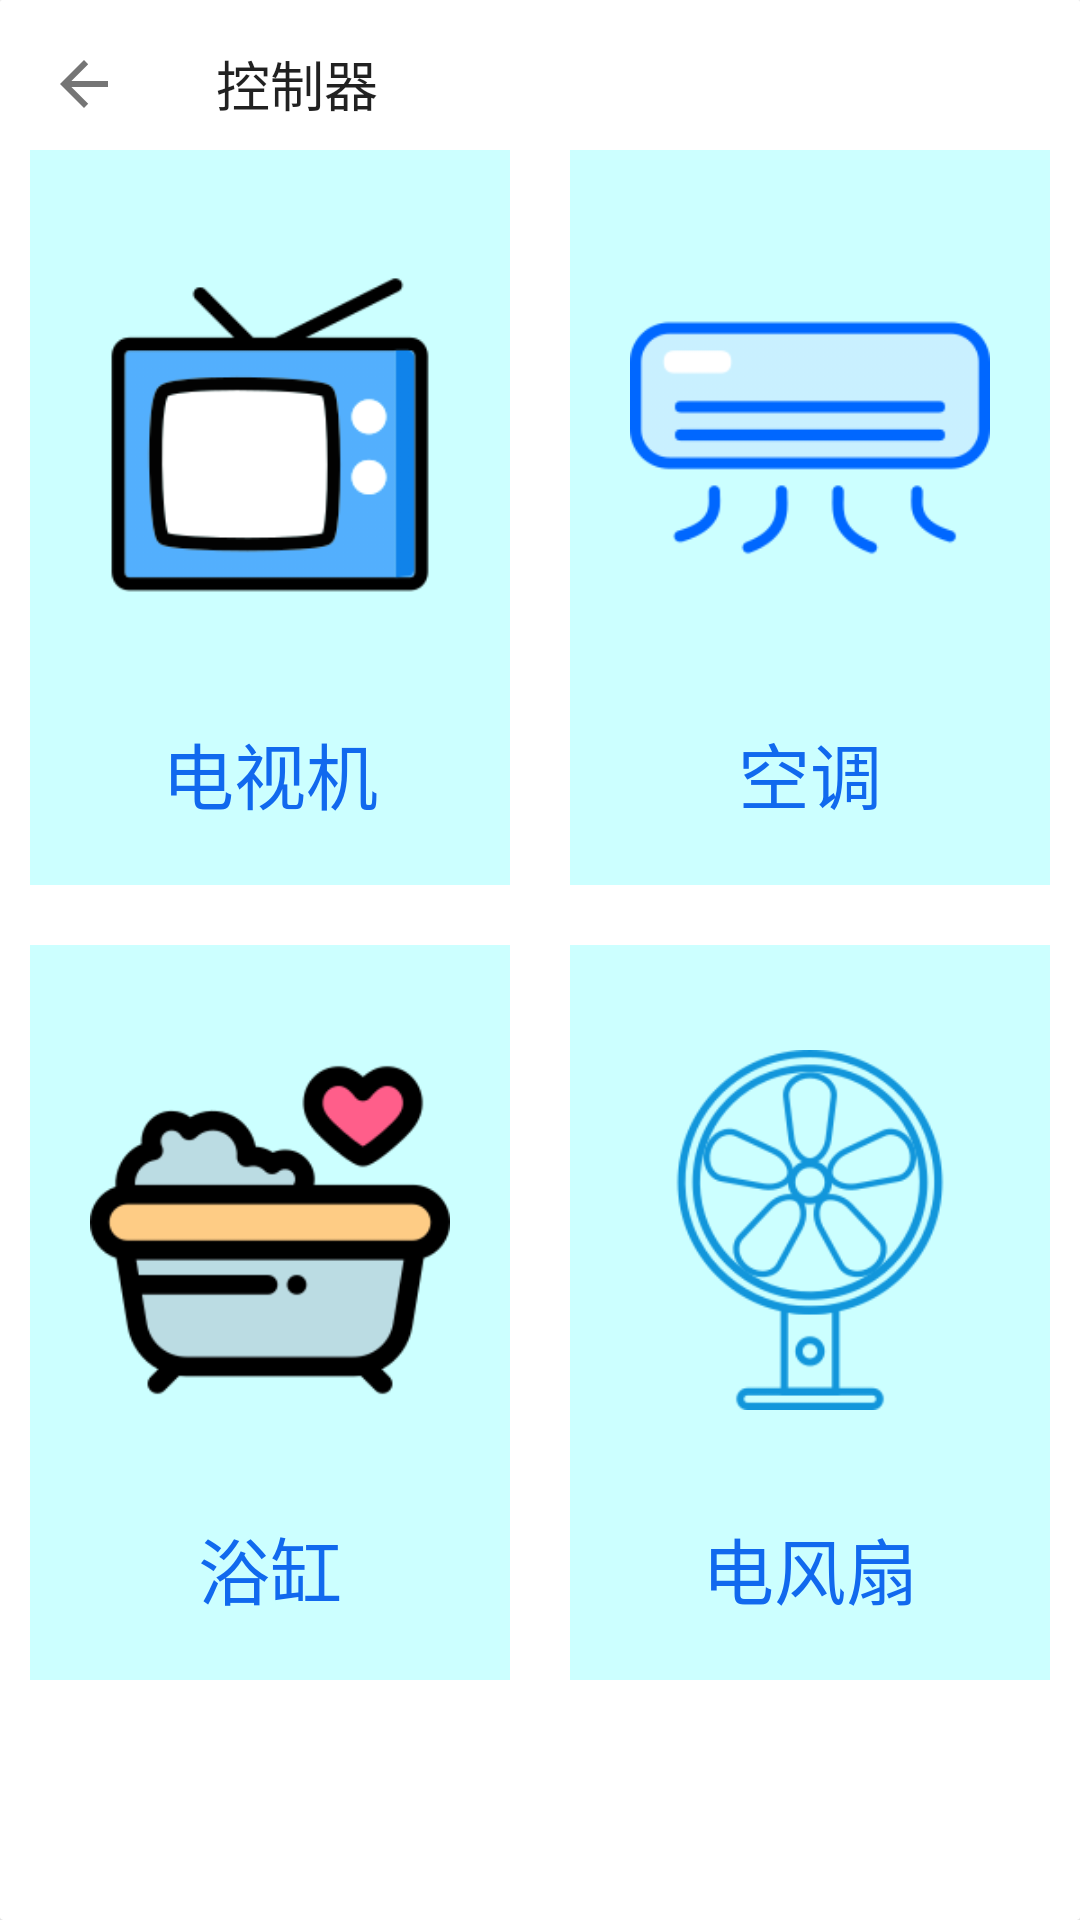

Screen size 1080w x 1920h. Icon name, then its center in pixels as point (x, y):
userinfo control bath: point (270, 1230)
userinfo control dianshi: point (270, 435)
userinfo control fan: point (810, 1230)
userinfo control kongtiao: point (810, 437)
